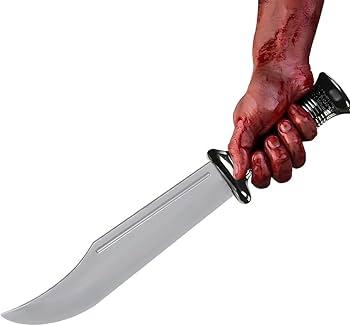Knife: (1, 147, 256, 326), (229, 0, 327, 189), (231, 70, 320, 190)
